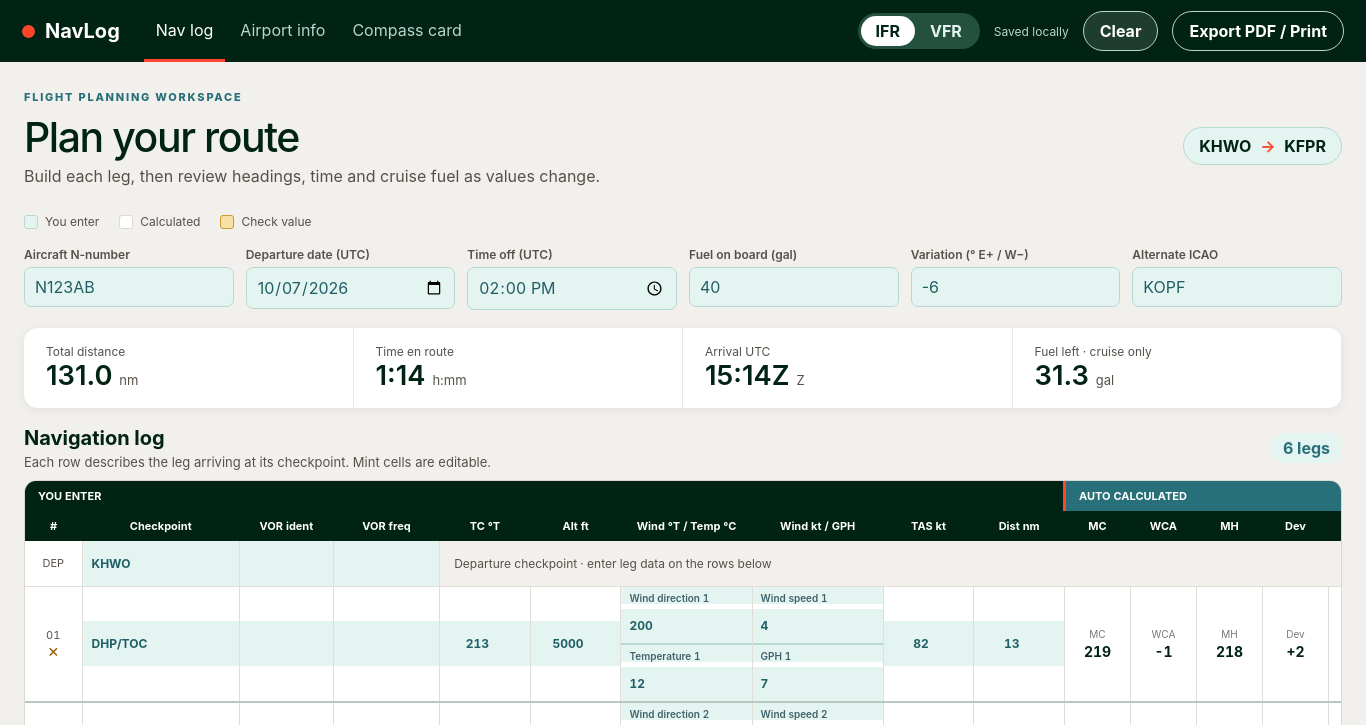
NavLog features › asks before clearing and keeps the work when canceled
Click the button "Clear" at (1121, 31), box [1083,11,1158,51]
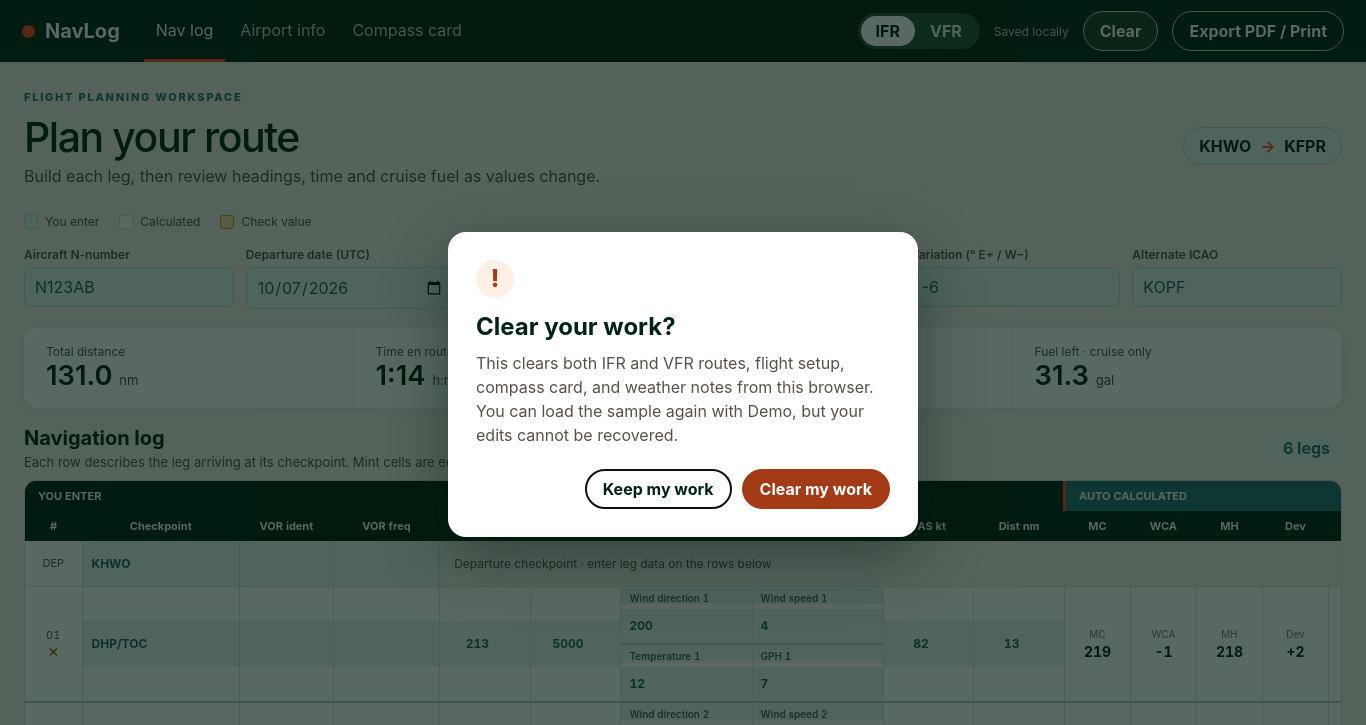
Check: the dialog "Clear your work?" shows "both IFR and VFR routes", box [476,352,874,444]
Click the button "Keep my work" at (658, 488), box [585,468,732,508]
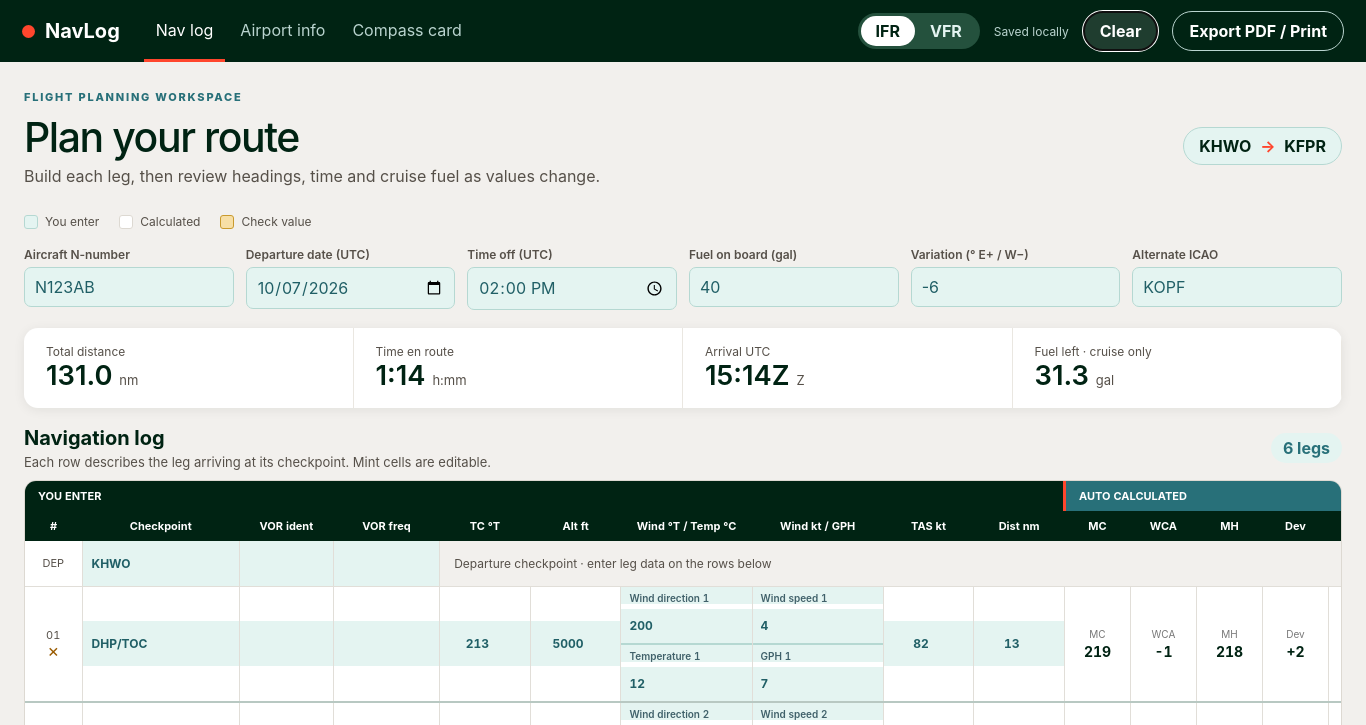
Check: the text "131.0" is shown, box [46,359,112,392]
Check: the dialog is gone
Click the button "Clear" at (1121, 31), box [1083,11,1158,51]
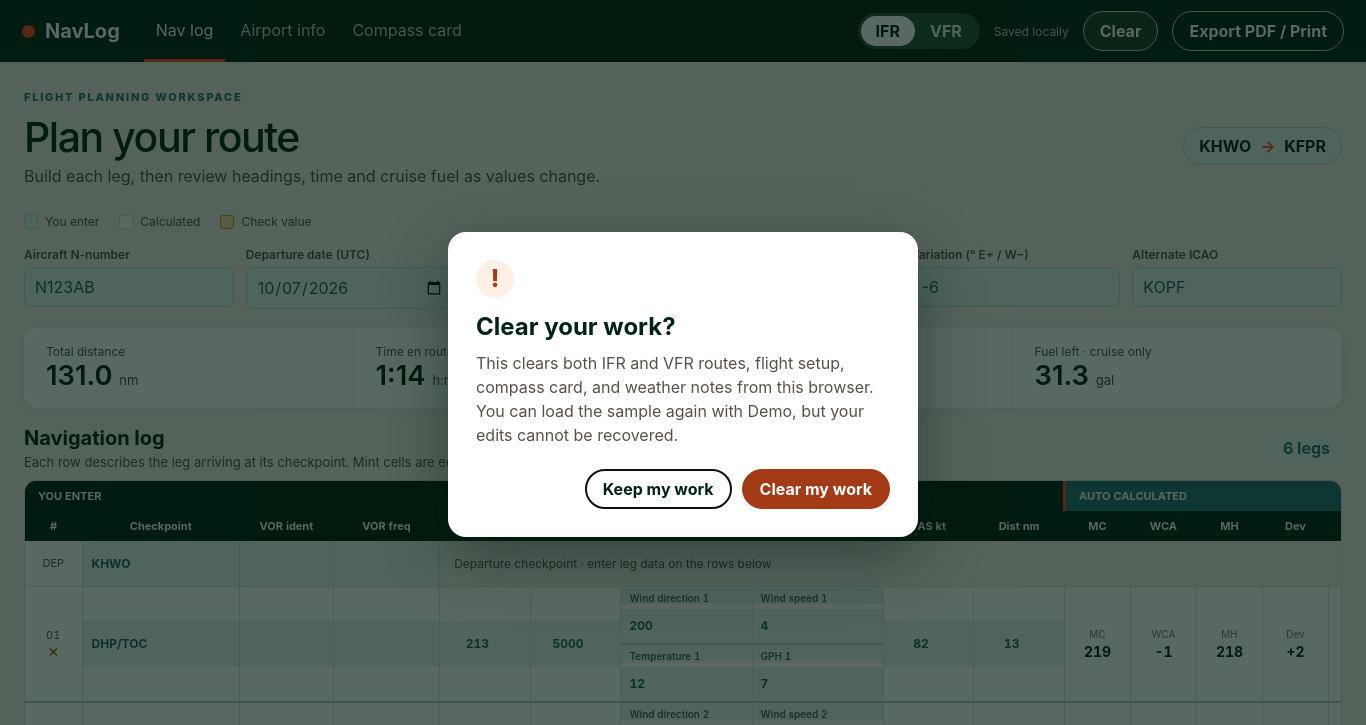
Press Escape
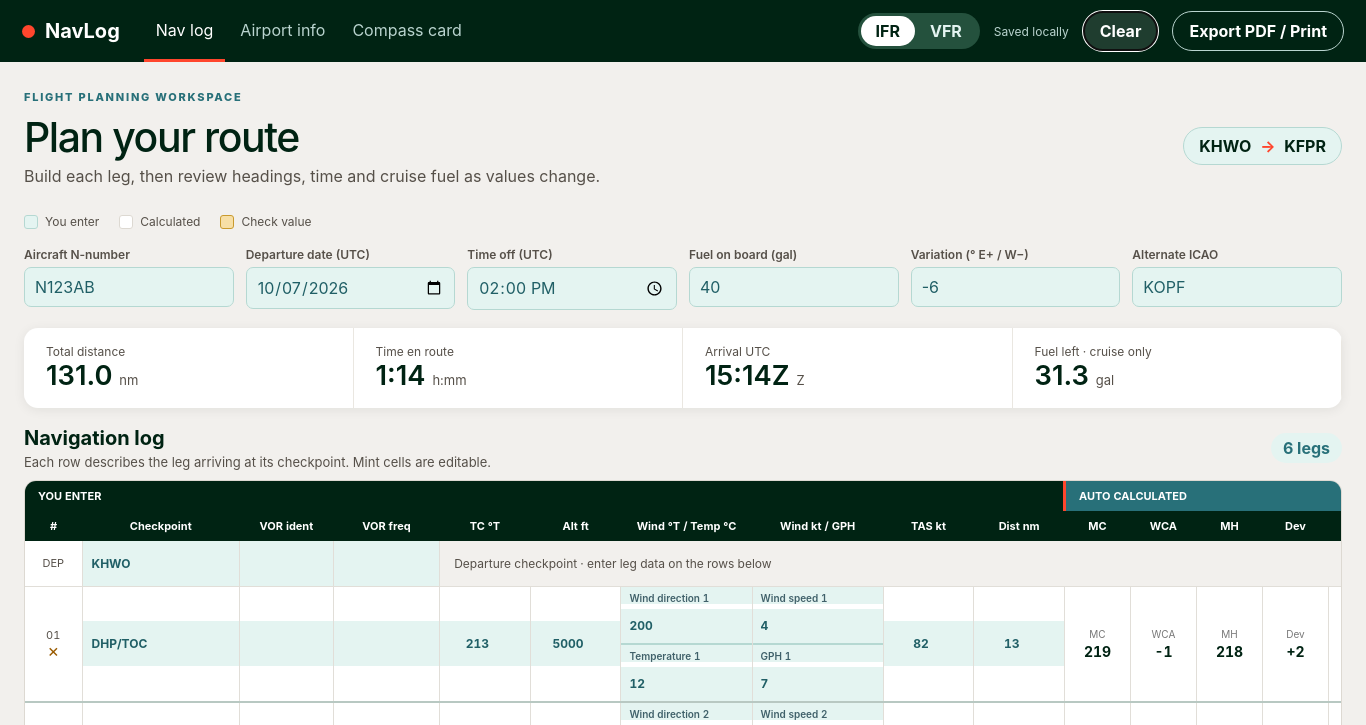
Check: the text "131.0" is shown, box [46,359,112,392]
Check: the dialog is gone
